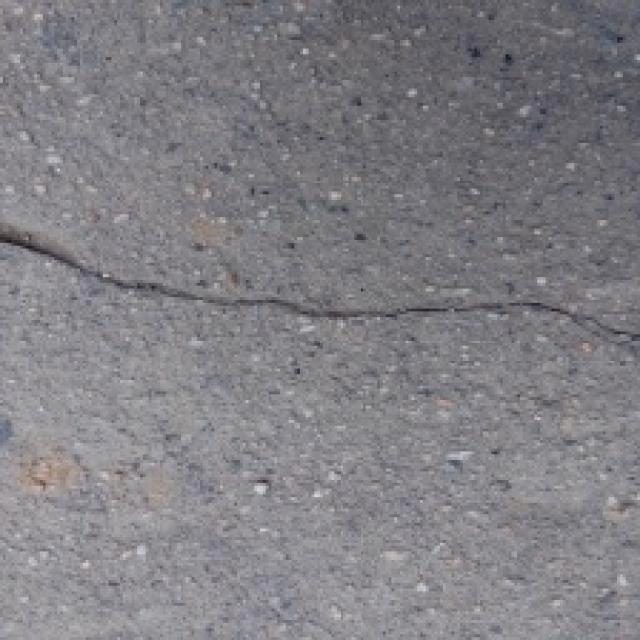crack: (0, 184, 640, 400)
